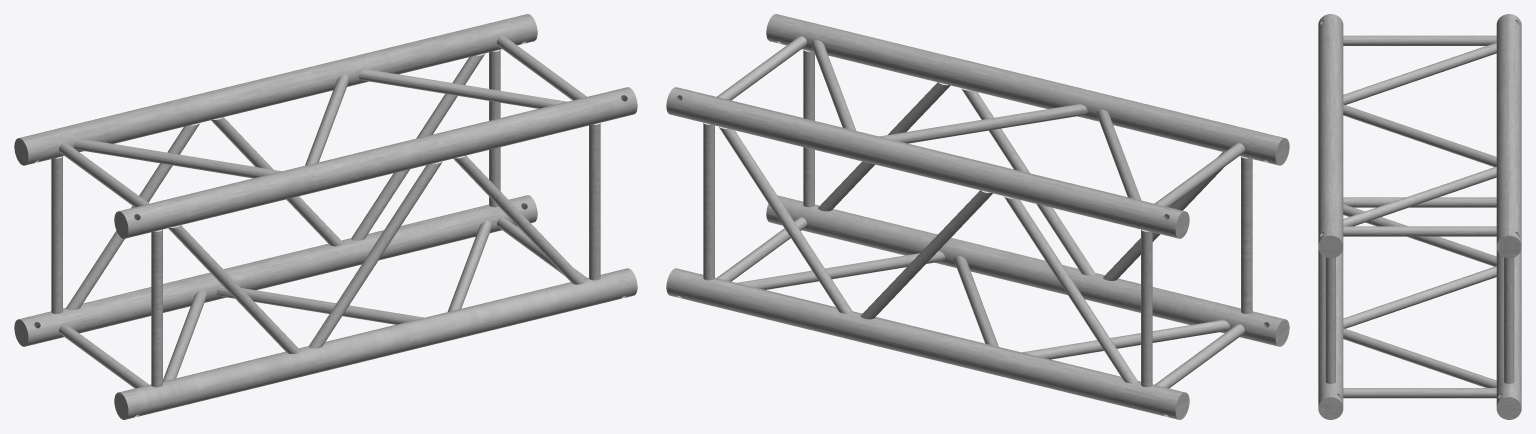
Rendered from Milos_M390L_1000_Quattro_Truss_Section-c4eeb1a0.glb.
3 views of the same model, side by side, from view 1: azimuth 30°, elevation 25°; view 2: azimuth 150°, elevation 25°; view 3: azimuth 270°, elevation 25° (orthographic). The views are drawn at different scales.
Parts seen in each view (by area): view 1: Geom3D; view 2: Geom3D; view 3: Geom3D.
Boxes of the visible parts, x1,y1,x2,y2 form: Geom3D: [14, 14, 637, 419]; Geom3D: [666, 14, 1289, 419]; Geom3D: [1318, 14, 1521, 419].
Bounding box in the file's own units: 1 × 0.388 × 0.388.
Materials: 2 (1 with a texture image).
